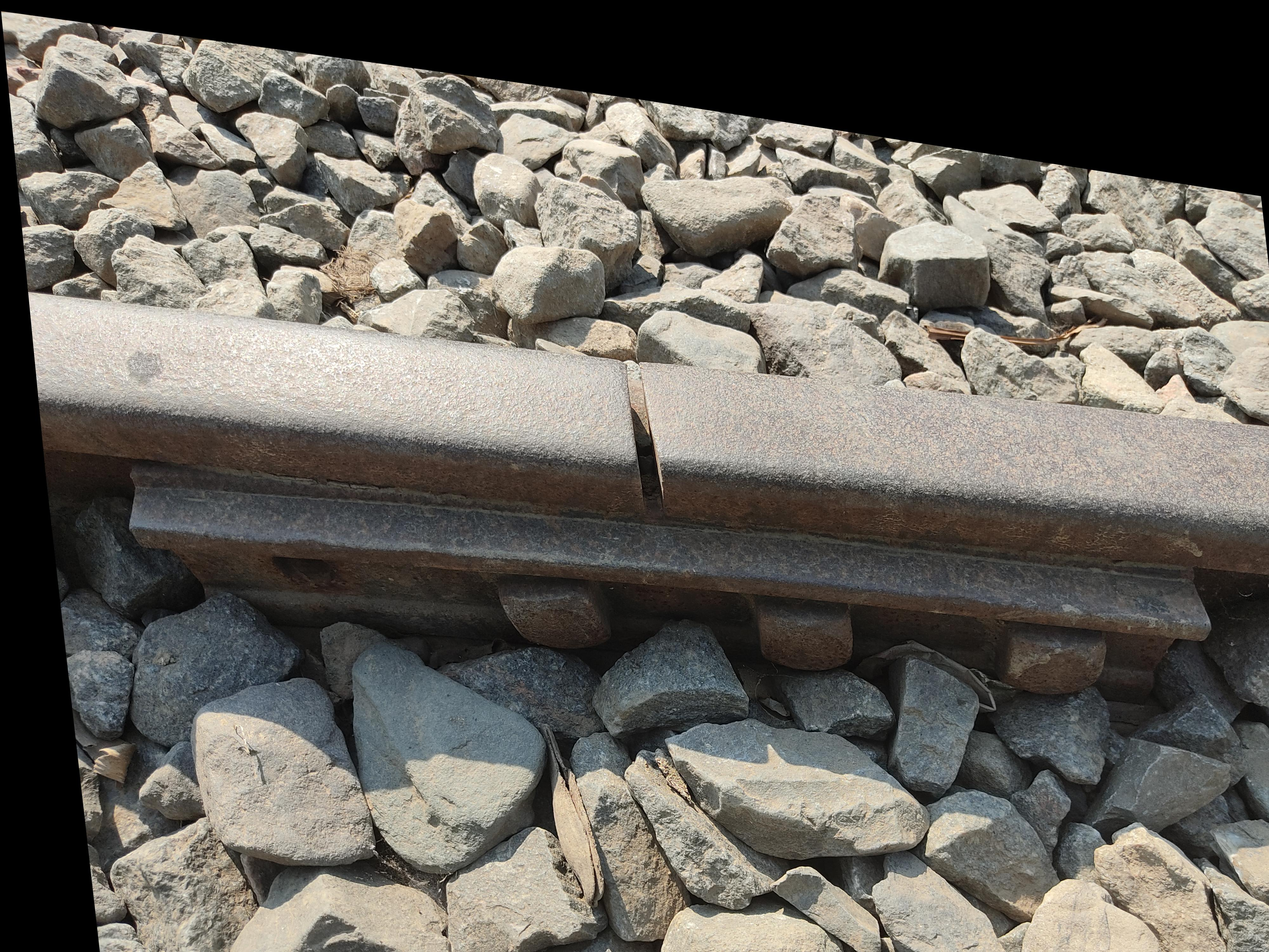person: (520, 302, 742, 542)
